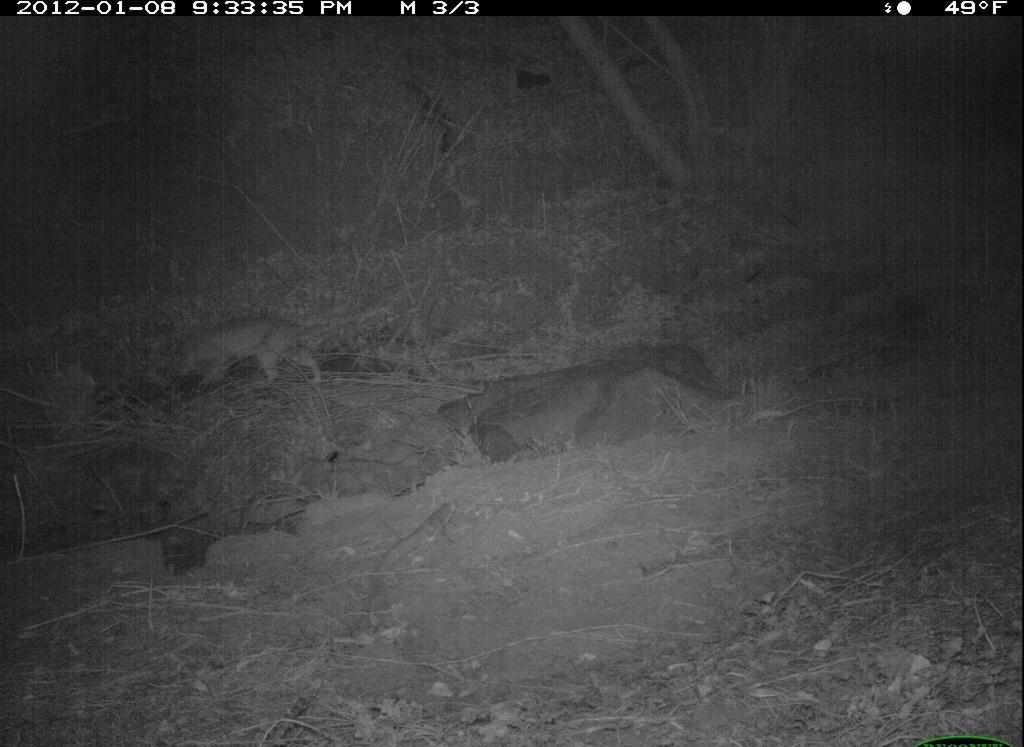bobcat: (164, 310, 338, 406)
